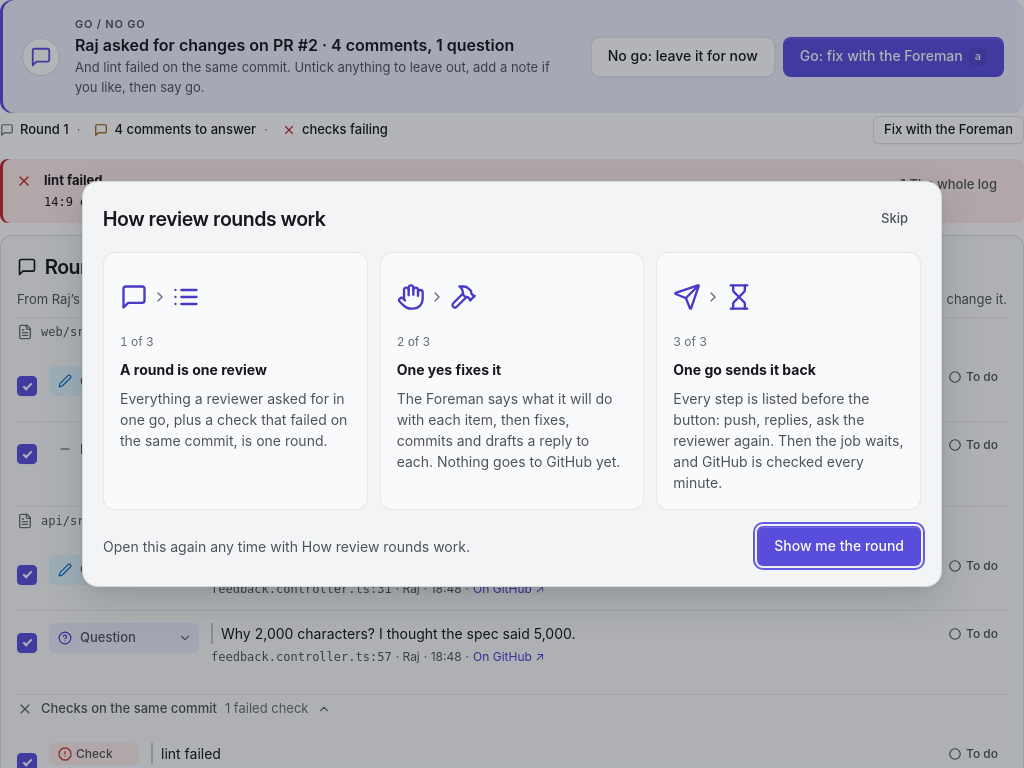
Test case: the Ship stop: changes asked for › the first round ever opens the three pictures, once
Expected: the dialog "How review rounds work" shows "A round is one review", x1=120 y1=361 x2=267 y2=378
Expected: the dialog "How review rounds work" shows "One yes fixes it", x1=397 y1=361 x2=501 y2=378
Click the button "Show me the round".
click(839, 546)  # box x1=757 y1=526 x2=921 y2=566
(page scrolled)
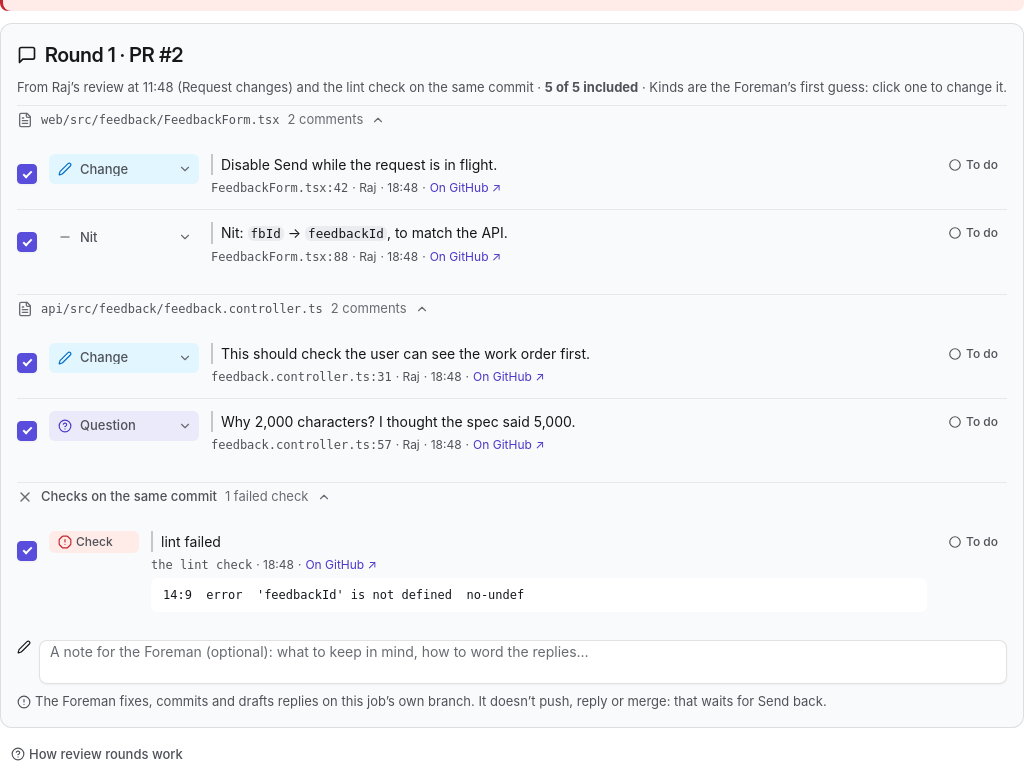
Click the button "How review rounds work".
click(97, 754)  # box x1=0 y1=740 x2=194 y2=767
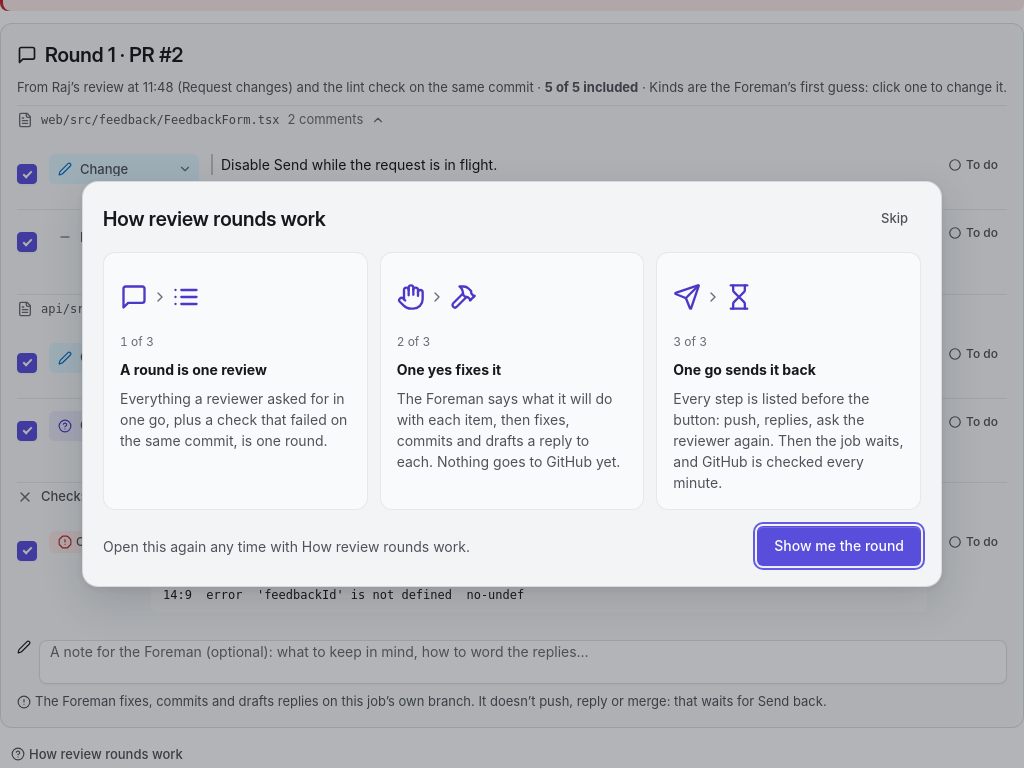
Now the dialog "How review rounds work" is shown, box x1=82 y1=181 x2=942 y2=587
